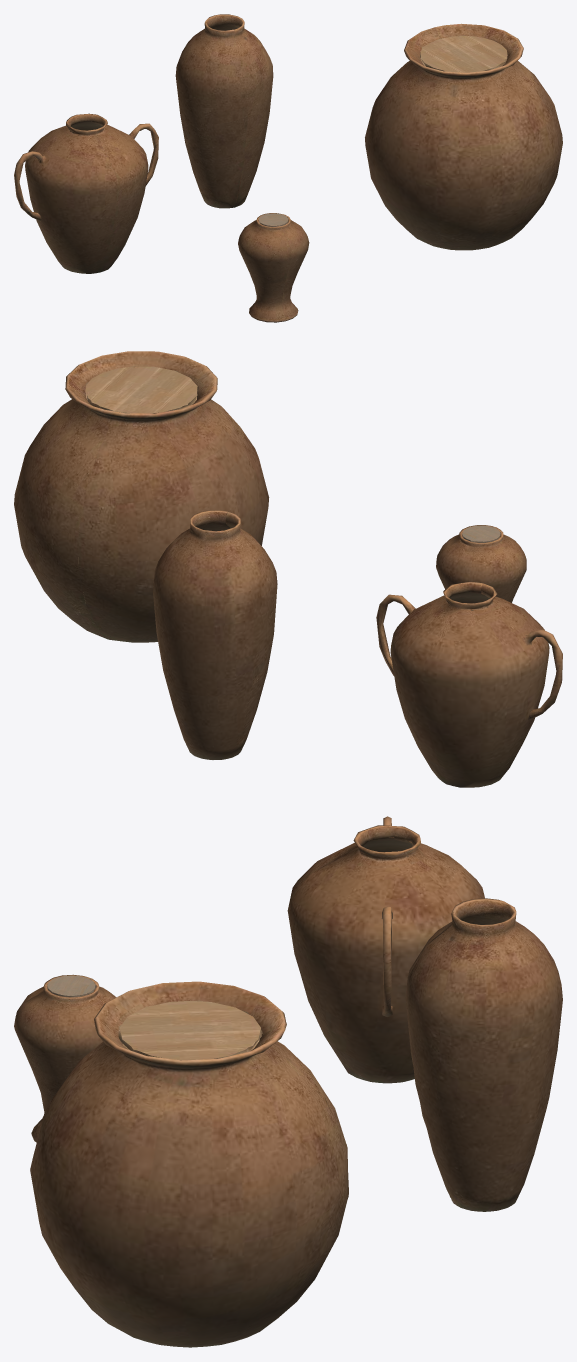
Rendered from clay_pots.glb.
3 views of the same model, one above another, from view 1: azimuth 30°, elevation 25°; view 2: azimuth 150°, elevation 25°; view 3: azimuth 270°, elevation 25° (orthographic). The views are drawn at different scales.
Parts seen in each view (by area): view 1: Pot_Large-Lid_Pottery_0, Pot_Handles_Pottery_0, Pot_SkinnyTall_Pottery_0, Pot_Small-Lid_Pottery_0, Lid_Large_Pottery_0; view 2: Pot_Large-Lid_Pottery_0, Pot_Handles_Pottery_0, Pot_SkinnyTall_Pottery_0, Lid_Large_Pottery_0, Pot_Small-Lid_Pottery_0, Lid_Small_Pottery_0; view 3: Pot_Large-Lid_Pottery_0, Pot_SkinnyTall_Pottery_0, Pot_Handles_Pottery_0, Lid_Large_Pottery_0, Pot_Small-Lid_Pottery_0, Lid_Small_Pottery_0.
Boxes of the visible parts, bbox=[...] form: Pot_Large-Lid_Pottery_0: bbox=[365, 23, 562, 250]; Pot_Handles_Pottery_0: bbox=[14, 113, 158, 273]; Pot_SkinnyTall_Pottery_0: bbox=[175, 14, 273, 208]; Pot_Small-Lid_Pottery_0: bbox=[238, 213, 309, 322]; Lid_Large_Pottery_0: bbox=[420, 35, 507, 72]; Pot_Large-Lid_Pottery_0: bbox=[14, 351, 269, 642]; Pot_Handles_Pottery_0: bbox=[376, 581, 562, 787]; Pot_SkinnyTall_Pottery_0: bbox=[153, 510, 277, 759]; Lid_Large_Pottery_0: bbox=[85, 366, 198, 413]; Pot_Small-Lid_Pottery_0: bbox=[436, 525, 526, 602]; Lid_Small_Pottery_0: bbox=[462, 525, 500, 542]; Pot_Large-Lid_Pottery_0: bbox=[30, 981, 348, 1347]; Pot_SkinnyTall_Pottery_0: bbox=[405, 898, 562, 1211]; Pot_Handles_Pottery_0: bbox=[287, 816, 484, 1083]; Lid_Large_Pottery_0: bbox=[118, 1000, 262, 1060]; Pot_Small-Lid_Pottery_0: bbox=[14, 974, 116, 1142]; Lid_Small_Pottery_0: bbox=[47, 975, 96, 997].
Size of the model in its own units: 185 by 67.82 by 115.
Materials: 1 (1 with a texture image).
